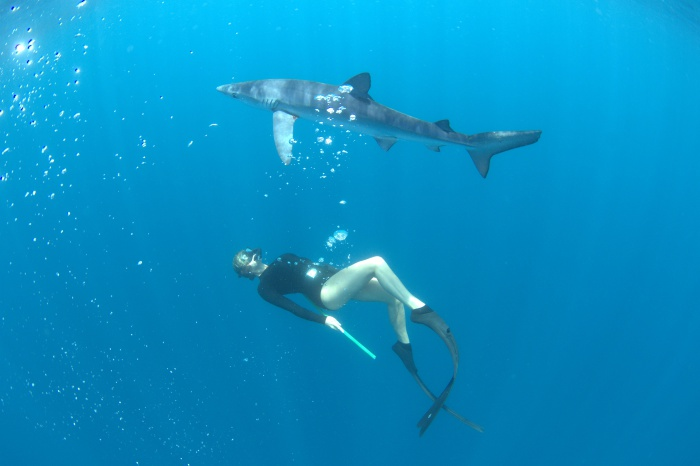Azul: (218, 53, 560, 194)
